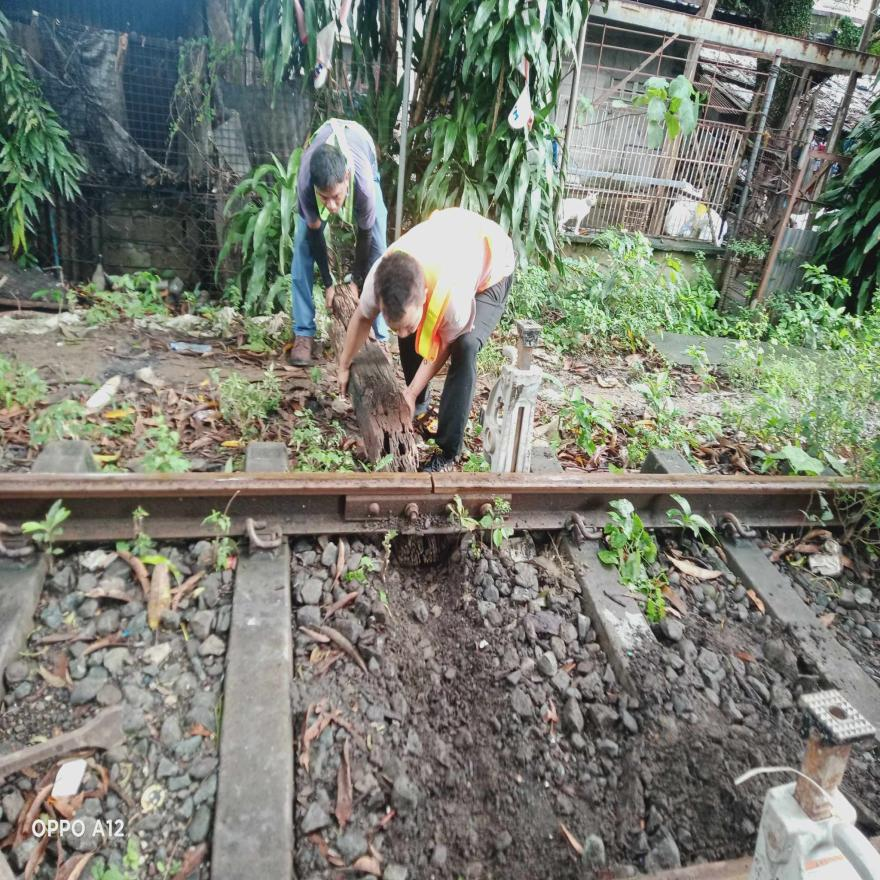railway-gap: (410, 461, 456, 513)
